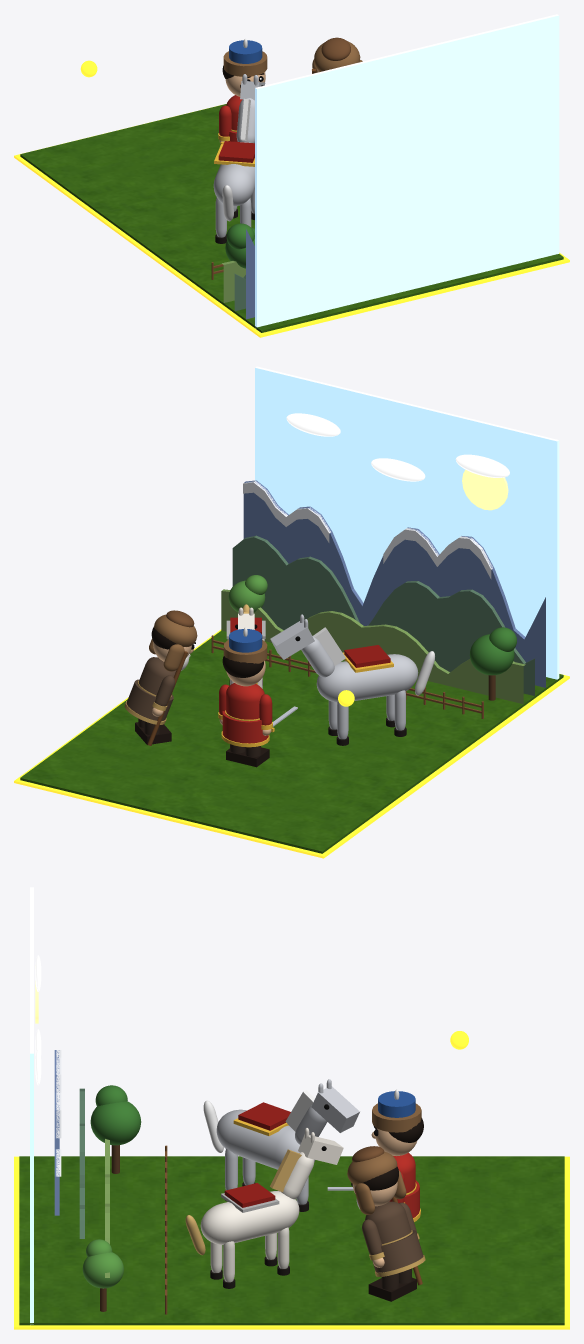
The picture shows the model from 3 angles, top to bottom: view 1: azimuth 30°, elevation 25°; view 2: azimuth 150°, elevation 25°; view 3: azimuth 270°, elevation 25°; orthographic projection. The views are drawn at different scales.
Parts seen in each view (by area): view 1: Аспан, Жер, Жиек, Torso, Алыс жота, Saddle, Borik, Rim, Tymaq, Жақын төбе, Top, Жапырақ (+2 smaller); view 2: Жер, Аспан, Орта жота, Алыс жота, Жақын төбе, Torso (×3), Жиек, Бұлт (×3), Қар, Жапырақ (×2), Skirt (×2), Күн (+5 smaller); view 3: Жер, Torso (×4), Жиек, Жапырақ (×2), HeadMesh (×2), Saddle (×2), Аспан, NeckMesh (×2), Skirt, Tymaq, Орта жота, Borik (+5 smaller).
Part boxes in pixels (left/top/right/bottom): Аспан: left=255, top=14, right=559, bottom=328; Жер: left=20, top=104, right=563, bottom=332; Жиек: left=14, top=105, right=569, bottom=337; Torso: left=213, top=142, right=254, bottom=206; Алыс жота: left=246, top=229, right=254, bottom=319; Saddle: left=218, top=141, right=254, bottom=162; Borik: left=229, top=40, right=262, bottom=63; Rim: left=223, top=51, right=267, bottom=76; Tymaq: left=314, top=41, right=360, bottom=71; Жақын төбе: left=222, top=261, right=245, bottom=302; Top: left=321, top=37, right=350, bottom=60; Жапырақ: left=226, top=223, right=254, bottom=249; Жер: left=20, top=630, right=563, bottom=853; Аспан: left=255, top=366, right=559, bottom=679; Орта жота: left=232, top=535, right=535, bottom=695; Алыс жота: left=243, top=480, right=545, bottom=687; Жақын төбе: left=221, top=589, right=525, bottom=704; Torso (×3): left=138, top=654, right=418, bottom=719; Жиек: left=14, top=629, right=569, bottom=858; Бұлт (×3): left=286, top=413, right=509, bottom=481; Қар: left=243, top=481, right=492, bottom=579; Жапырақ (×2): left=228, top=580, right=514, bottom=675; Skirt (×2): left=126, top=679, right=268, bottom=743; Күн: left=462, top=469, right=508, bottom=510; Жер: left=19, top=1156, right=564, bottom=1325; Torso (×4): left=200, top=1109, right=415, bottom=1244; Жиек: left=14, top=1156, right=569, bottom=1329; Жапырақ (×2): left=82, top=1101, right=141, bottom=1288; HeadMesh (×2): left=298, top=1086, right=359, bottom=1164; Saddle (×2): left=224, top=1102, right=290, bottom=1207; Аспан: left=30, top=887, right=33, bottom=1324; NeckMesh (×2): left=280, top=1105, right=327, bottom=1199; Skirt: left=372, top=1230, right=423, bottom=1272; Tymaq: left=347, top=1151, right=397, bottom=1185; Орта жота: left=79, top=1088, right=84, bottom=1238; Borik: left=378, top=1091, right=415, bottom=1117.
Bounding box in the file's own units: 0.9635 × 0.7206 × 1.33.
Materials: 40 (1 with a texture image).
